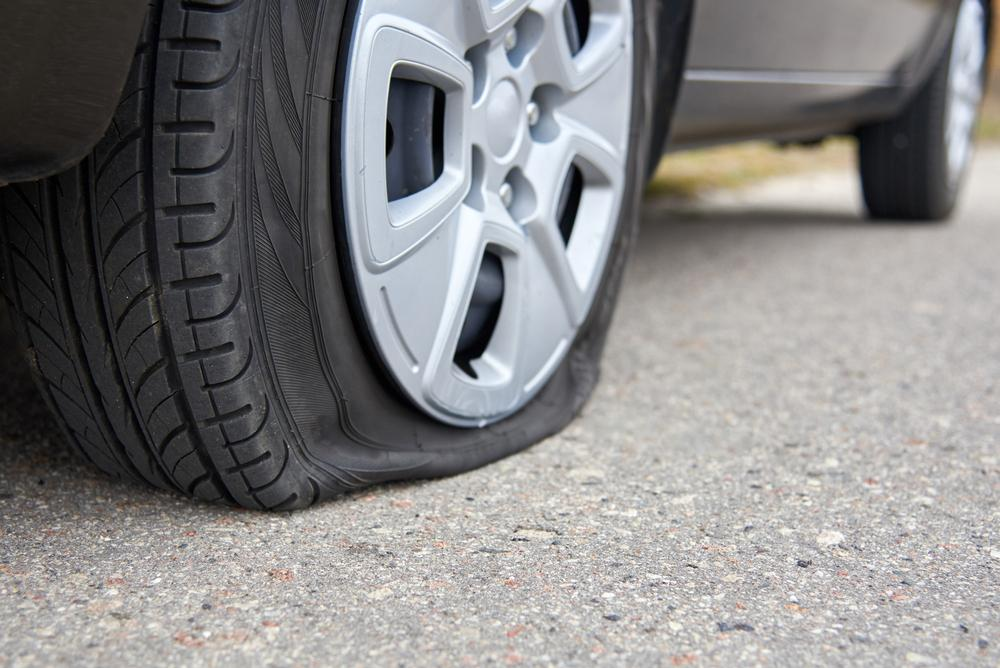tire flat: (0, 0, 656, 514)
